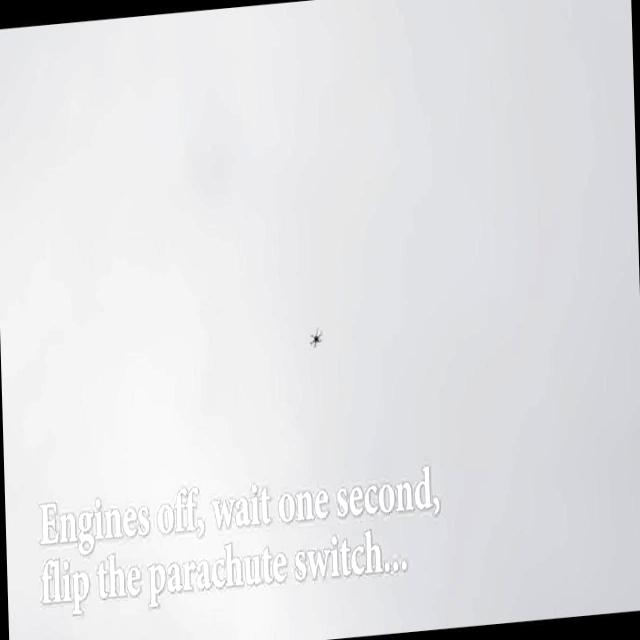drone: (306, 320, 324, 352)
